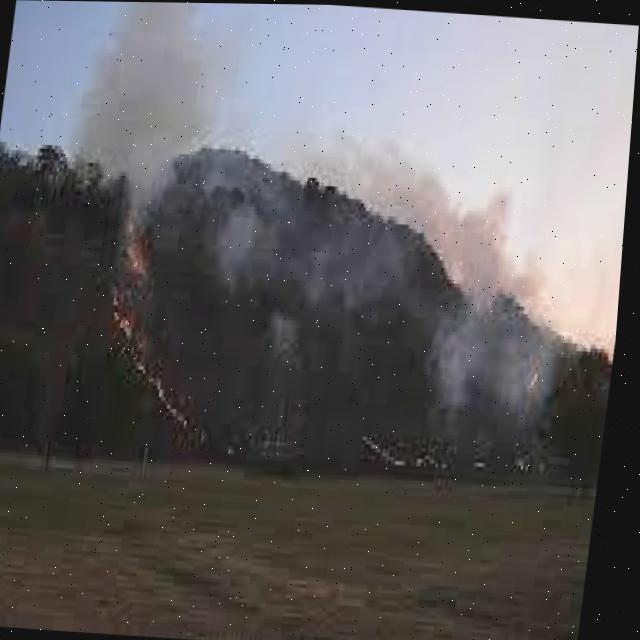smoke: (86, 2, 624, 464)
